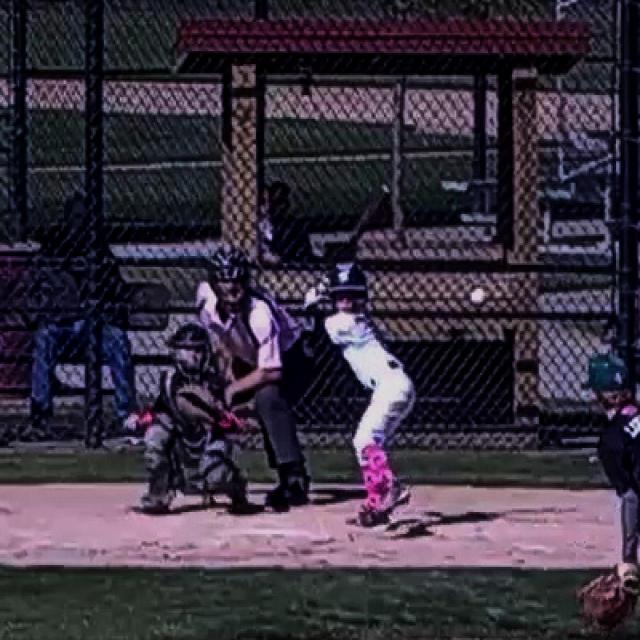baseball: (472, 289, 486, 303)
